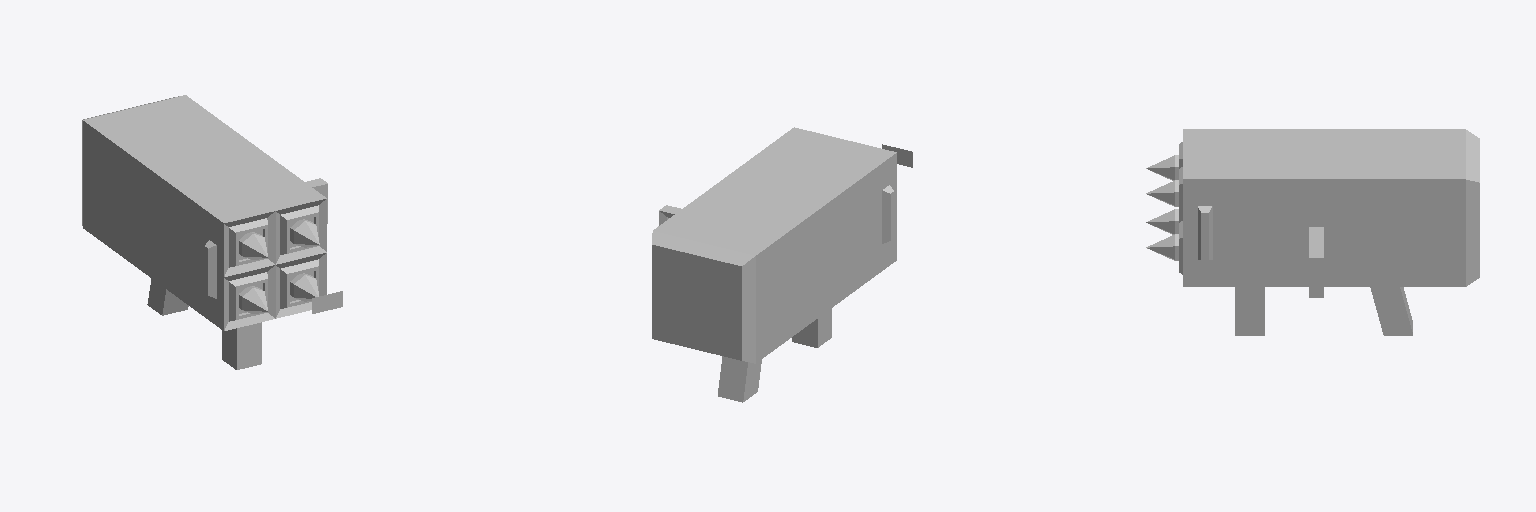
Rendered from homingrpg.obj.
3 renders of one model, left to right at view 1: azimuth 30°, elevation 25°; view 2: azimuth 150°, elevation 25°; view 3: azimuth 270°, elevation 25°, orthographic.
Visible parts, largest first — view 1: gunModel, ammoModel, ammoModelTwo, ammoModelThree, ammoModelOne, ammoModelFour; view 2: gunModel, ammoModel; view 3: gunModel, ammoModel, defaultScopeModel.
Part boxes in pixels (bbox=[...]): gunModel: bbox=[90, 101, 326, 369]; ammoModel: bbox=[82, 95, 192, 232]; ammoModelTwo: bbox=[290, 219, 319, 247]; ammoModelThree: bbox=[239, 286, 267, 313]; ammoModelOne: bbox=[239, 232, 267, 259]; ammoModelFour: bbox=[290, 273, 318, 301]; gunModel: bbox=[661, 127, 896, 402]; ammoModel: bbox=[652, 225, 762, 363]; gunModel: bbox=[1179, 129, 1450, 335]; ammoModel: bbox=[1451, 129, 1479, 286]; defaultScopeModel: bbox=[1309, 227, 1323, 297].
Bounding box in the file's own units: 0.6328 × 0.6094 × 1.26.